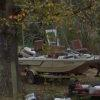Boat: (15, 39, 97, 81)
